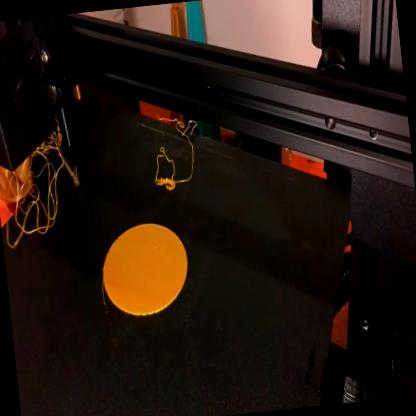fail: (1, 123, 89, 250), (148, 109, 208, 196)
